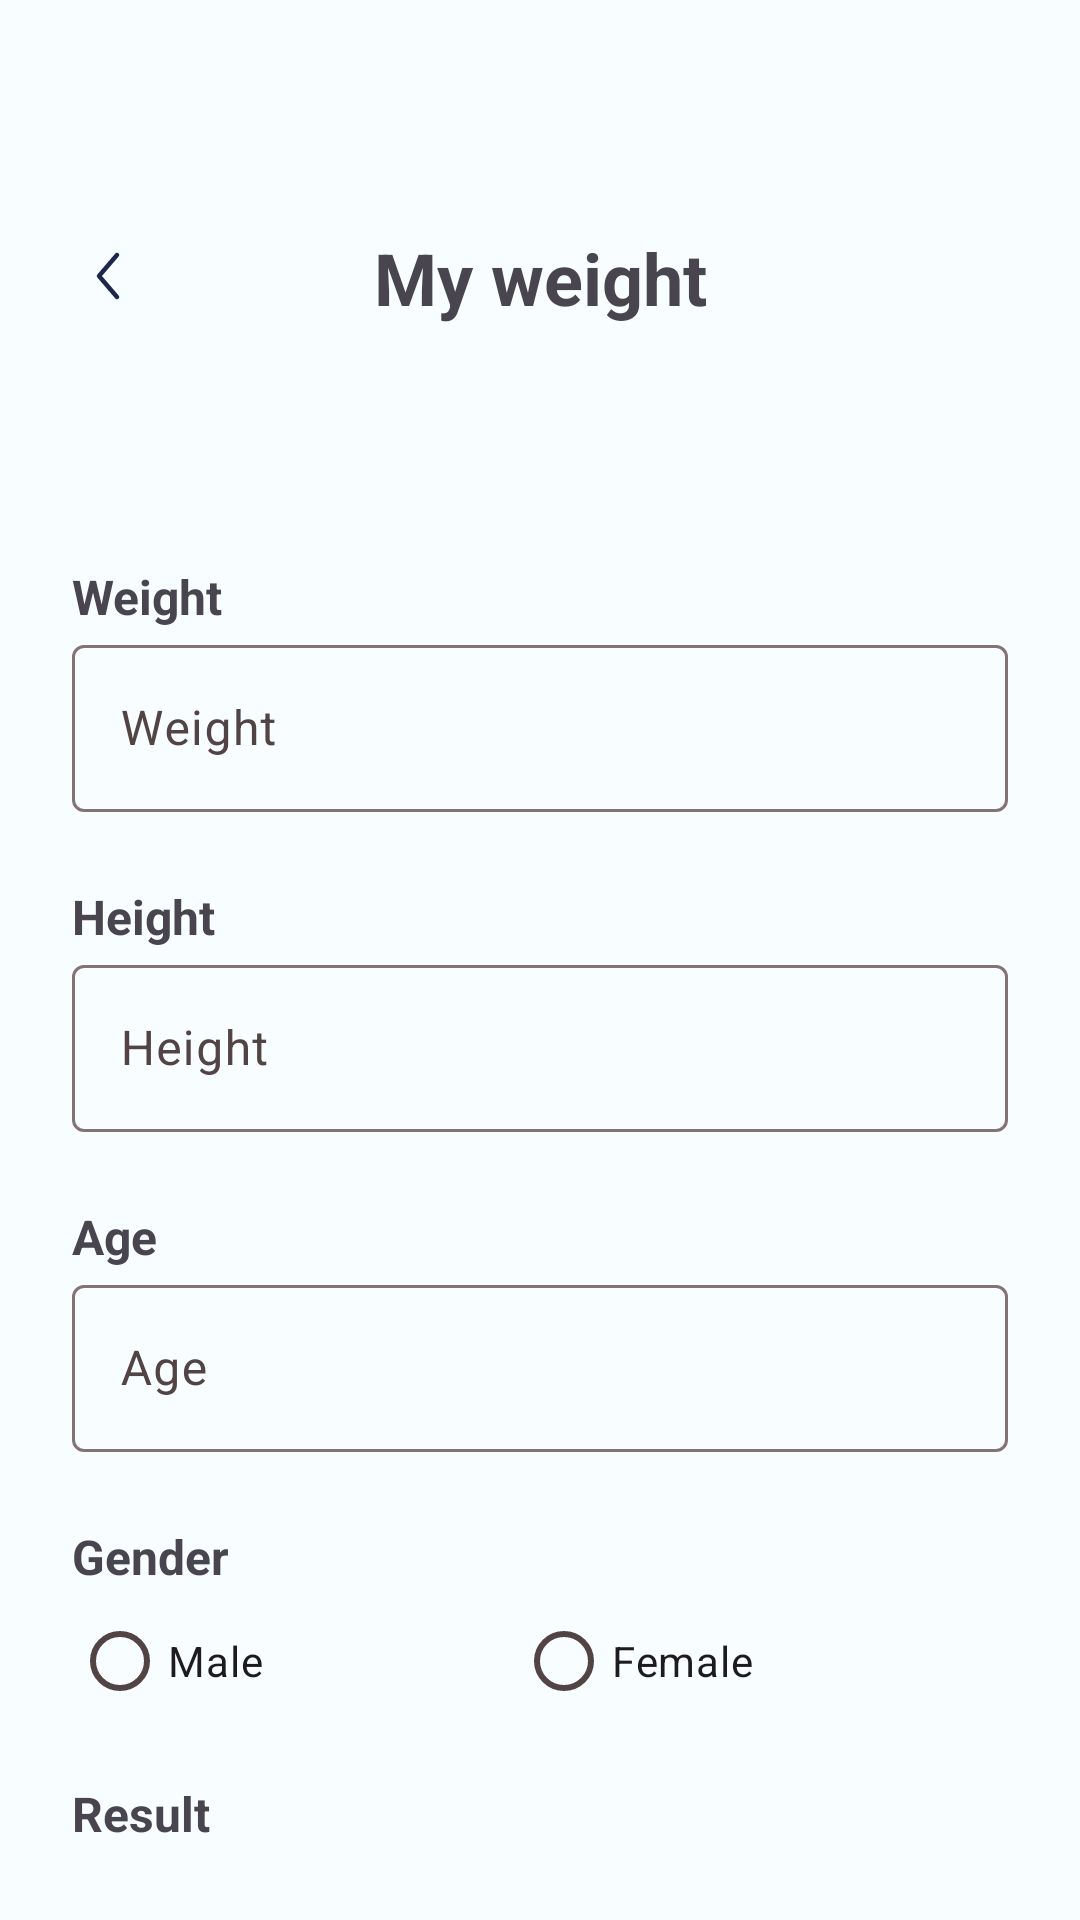

Where to tap for icons on this 1080×1920 app screen, as point (x, y):
Back Button: point (108, 276)
